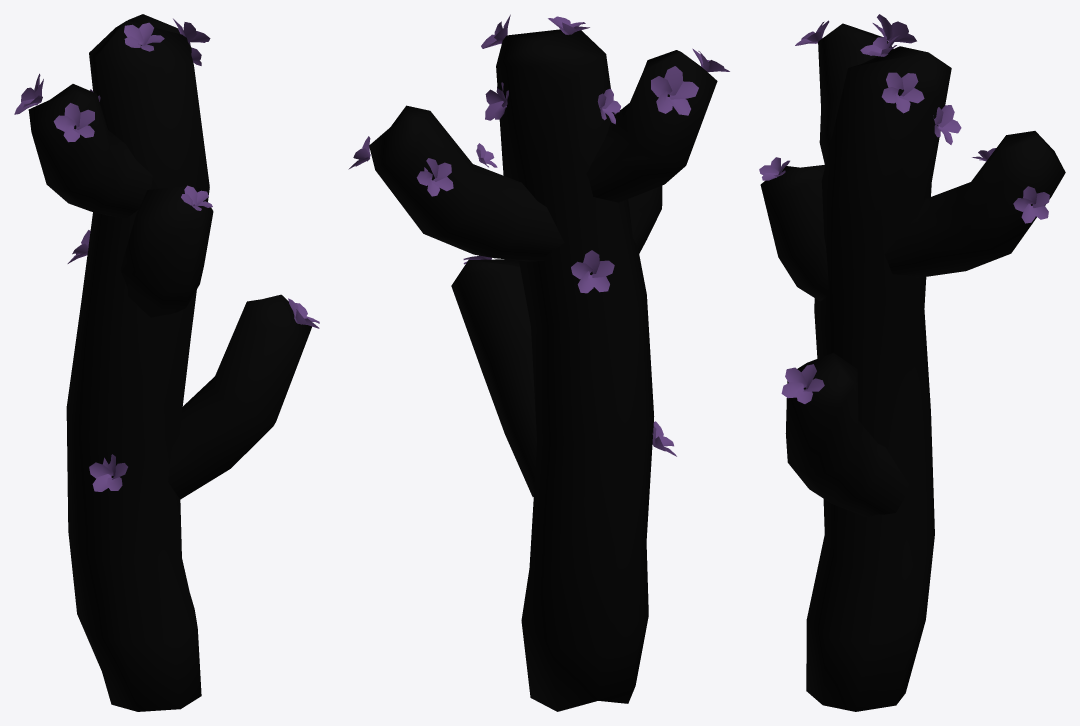
Rendered from coral1.fbx.
3 views of the same model, side by side, from view 1: azimuth 30°, elevation 25°; view 2: azimuth 150°, elevation 25°; view 3: azimuth 270°, elevation 25° (orthographic). The views are drawn at different scales.
Visible parts, largest first — view 1: coralstalk, pPlane11, pPlane17, pPlane7, pPlane10; view 2: coralstalk, pPlane10, pPlane16, pPlane18, pPlane9; view 3: coralstalk, pPlane8, pPlane12, pPlane15, pPlane9, pPlane10.
Part boxes in pixels (x1,y1,x2,y2): coralstalk: [28, 14, 311, 711]; pPlane11: [53, 103, 94, 142]; pPlane17: [89, 454, 127, 491]; pPlane7: [124, 22, 164, 51]; pPlane10: [14, 73, 43, 114]; coralstalk: [369, 29, 717, 711]; pPlane10: [651, 66, 698, 115]; pPlane16: [571, 250, 614, 293]; pPlane18: [416, 158, 453, 196]; pPlane9: [485, 82, 508, 120]; coralstalk: [760, 23, 1065, 711]; pPlane8: [881, 72, 924, 113]; pPlane12: [781, 364, 824, 403]; pPlane15: [1013, 186, 1049, 223]; pPlane9: [933, 105, 961, 144]; pPlane10: [872, 14, 916, 43].
Size of the model in its own units: 8.71 by 20.9 by 8.87.
